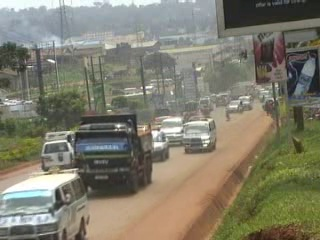Car: (38, 137, 79, 172), (156, 116, 186, 147), (148, 127, 171, 163), (227, 97, 243, 111)
Motorcycle: (236, 99, 243, 114)
